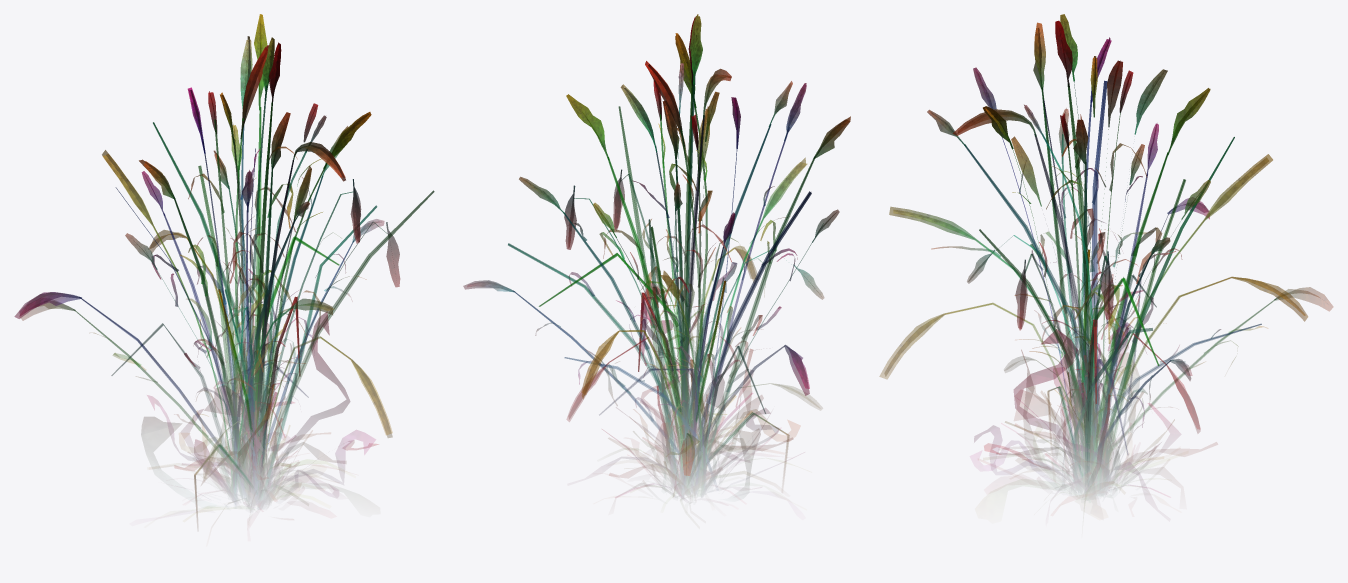
File: tdcrdbur_tier_3.gltf
3 views of the same model, side by side, from view 1: azimuth 30°, elevation 25°; view 2: azimuth 150°, elevation 25°; view 3: azimuth 270°, elevation 25° (orthographic). The views are drawn at different scales.
Parts seen in each view (by area): view 1: SM_tdcrdbur_VarA, SM_tdcrdbur_VarC, SM_tdcrdbur_VarB, SM_tdcrdbur_VarD, SM_tdcrdbur_VarE; view 2: SM_tdcrdbur_VarA, SM_tdcrdbur_VarB, SM_tdcrdbur_VarC, SM_tdcrdbur_VarD, SM_tdcrdbur_VarE; view 3: SM_tdcrdbur_VarA, SM_tdcrdbur_VarC, SM_tdcrdbur_VarB, SM_tdcrdbur_VarD, SM_tdcrdbur_VarE.
Boxes of the visible parts, <box> form: SM_tdcrdbur_VarA: <box>20,14,434,502</box>; SM_tdcrdbur_VarC: <box>125,36,400,497</box>; SM_tdcrdbur_VarB: <box>14,112,371,492</box>; SM_tdcrdbur_VarD: <box>224,112,377,495</box>; SM_tdcrdbur_VarE: <box>194,289,300,526</box>; SM_tdcrdbur_VarA: <box>508,14,850,489</box>; SM_tdcrdbur_VarB: <box>519,33,824,496</box>; SM_tdcrdbur_VarC: <box>463,17,839,473</box>; SM_tdcrdbur_VarD: <box>564,101,752,466</box>; SM_tdcrdbur_VarE: <box>638,280,789,496</box>; SM_tdcrdbur_VarA: <box>879,14,1332,483</box>; SM_tdcrdbur_VarC: <box>973,20,1210,468</box>; SM_tdcrdbur_VarB: <box>967,80,1307,489</box>; SM_tdcrdbur_VarD: <box>984,114,1128,487</box>; SM_tdcrdbur_VarE: <box>1032,249,1163,485</box>.
Size of what is drawn, in the model's own units: 0.9954 by 1.35 by 1.06.
1 material, 1 textured.
